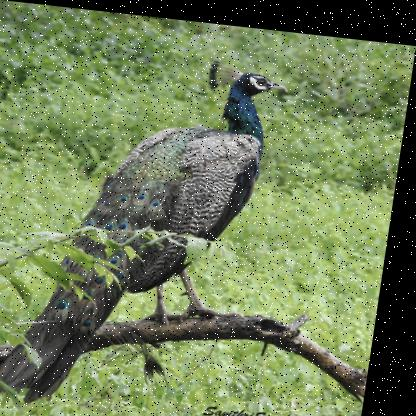Burung: (0, 40, 292, 415)
